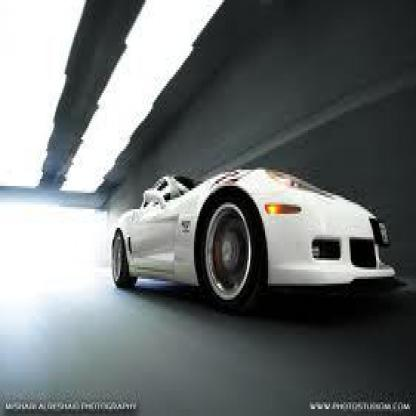Vehicle: (108, 160, 401, 326)
